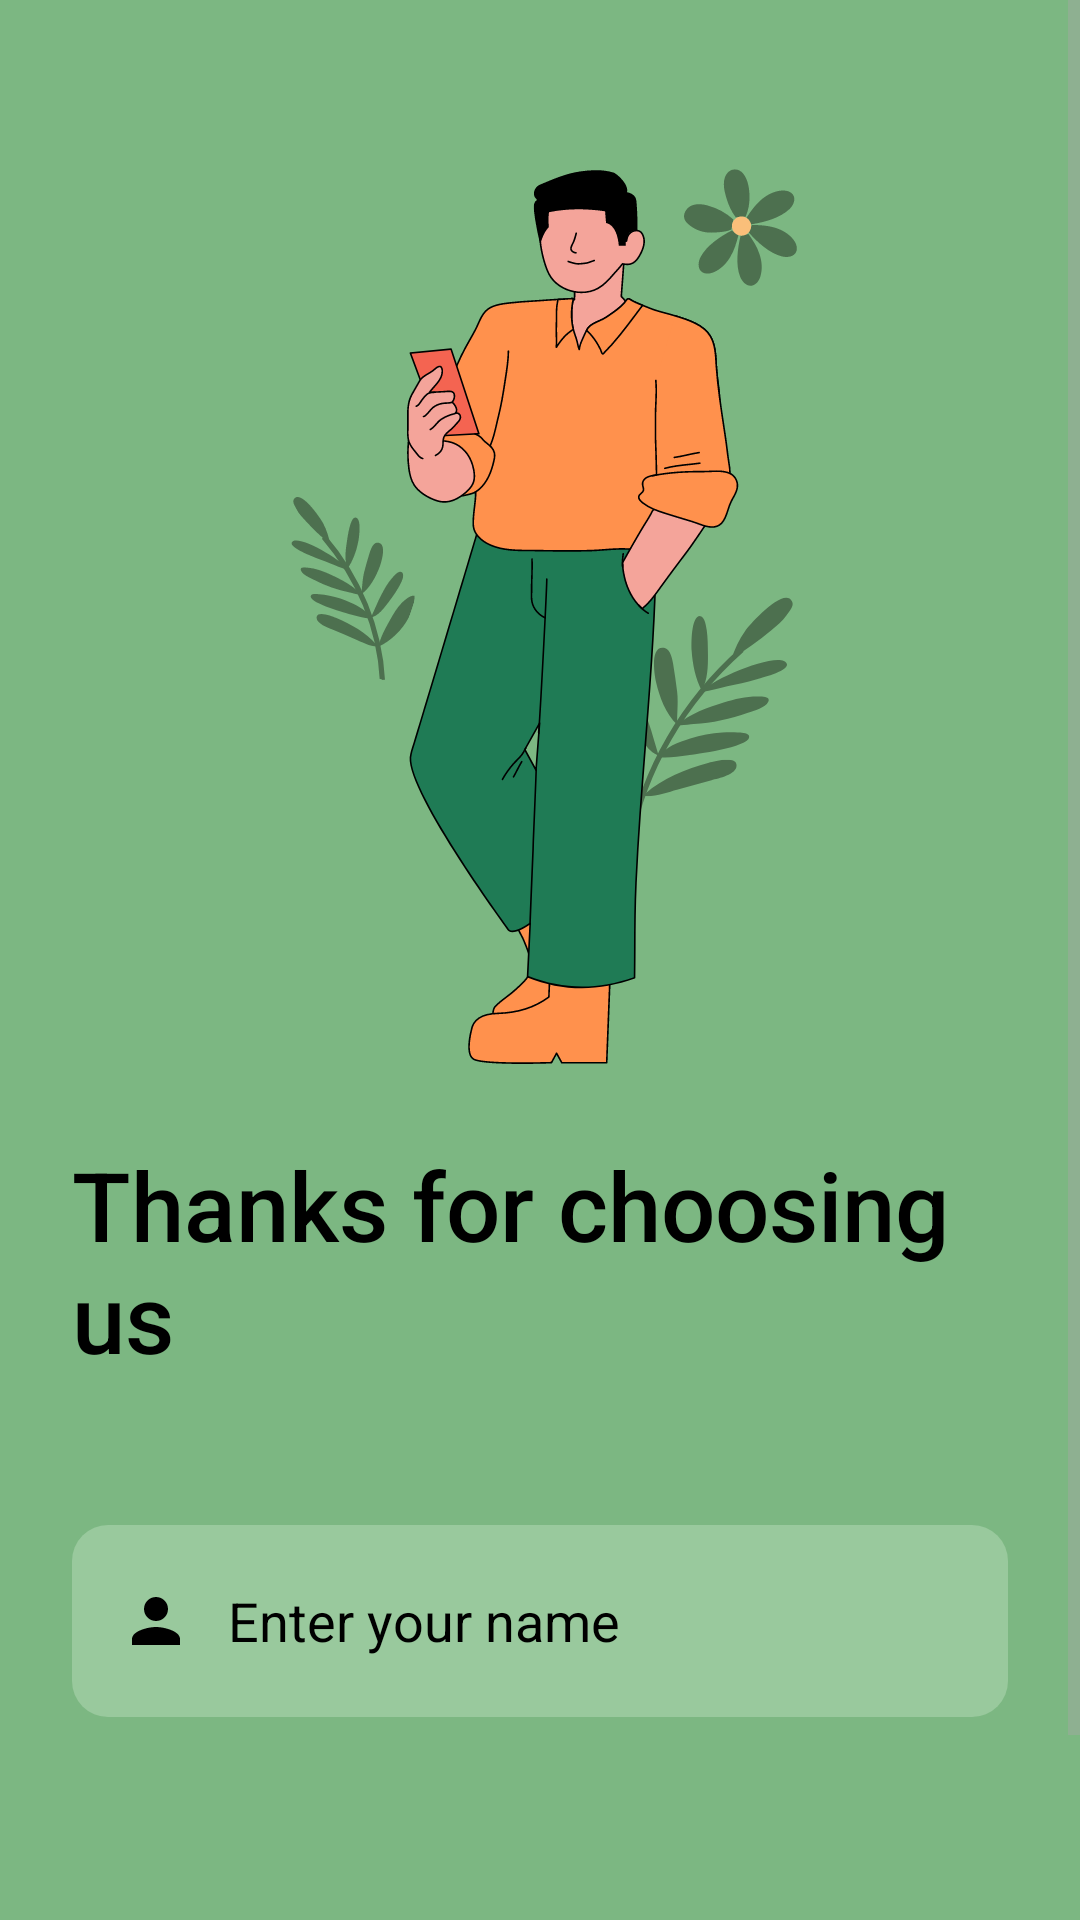

Point at icon controls on the screen. Image size 1080 x 1920, points as [x,y].
person: [156,1621]
